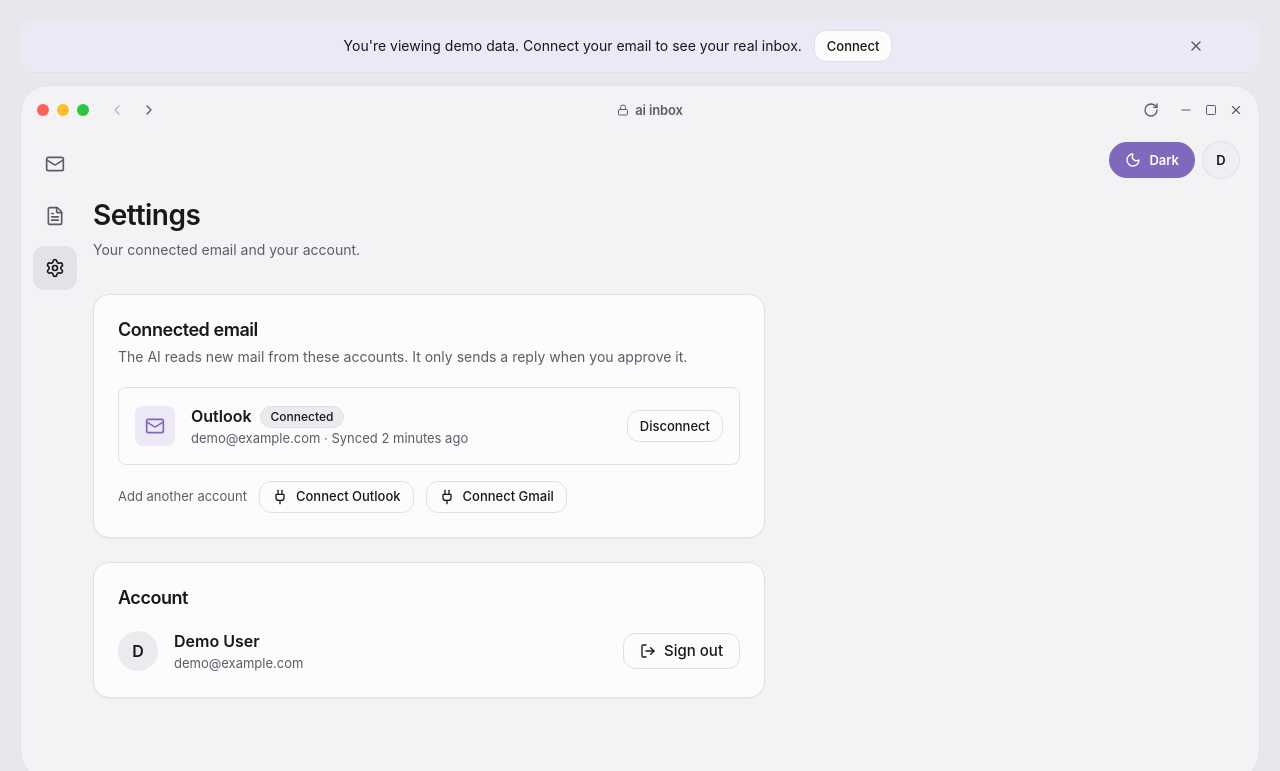
it: app › connects a Gmail account alongside Outlook
This screenshot has width=1280, height=771.
Expected: the text "demo@example.com · Synced 2 minutes ago" is shown, [191,430,468,446]
What coordinates should you click on to do the following:
click the button "Connect Gmail"
I would click on:
 (496, 497)
Its box is [426,481,567,513].
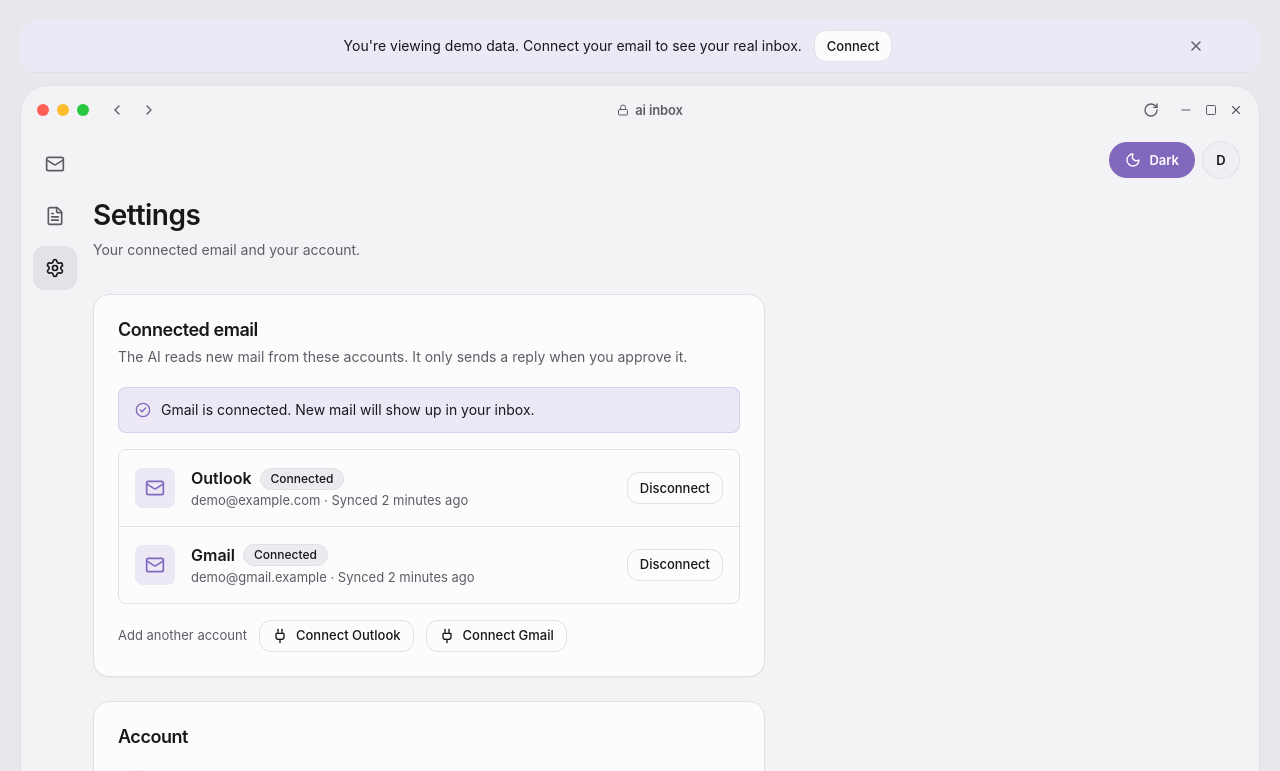
Expected: the text "demo@example.com · Synced 2 minutes ago" is shown, [191,492,468,508]
Result: the message shows "Gmail is connected" at [118,387,740,433]
Result: the text "demo@gmail.example · Synced 2 minutes ago" is shown at [191,569,474,585]
